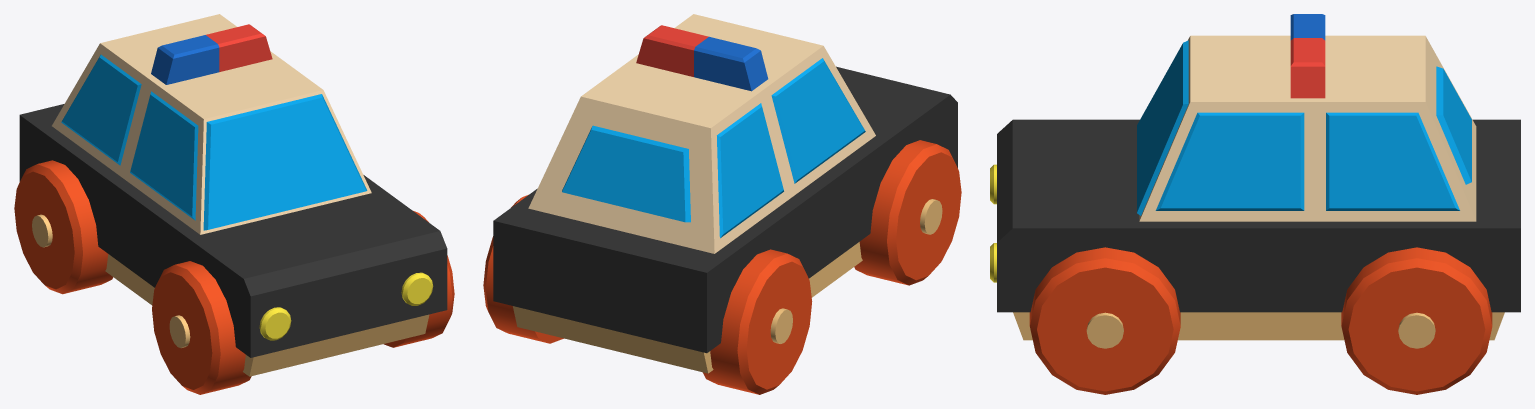
File: Police_Car.fbx
The picture shows the model from 3 angles, left to right: view 1: azimuth 30°, elevation 25°; view 2: azimuth 150°, elevation 25°; view 3: azimuth 270°, elevation 25°; orthographic projection. The views are drawn at different scales.
Parts seen in each view (by area): view 1: Police_Car; view 2: Police_Car; view 3: Police_Car.
Part boxes in pixels (left/top/right/bottom): Police_Car: left=14, top=14, right=454, bottom=394; Police_Car: left=483, top=14, right=961, bottom=394; Police_Car: left=990, top=14, right=1520, bottom=394.
Bounding box in the file's own units: 9.47 × 9.28 × 15.29.
Materials: 1 (1 with a texture image).
